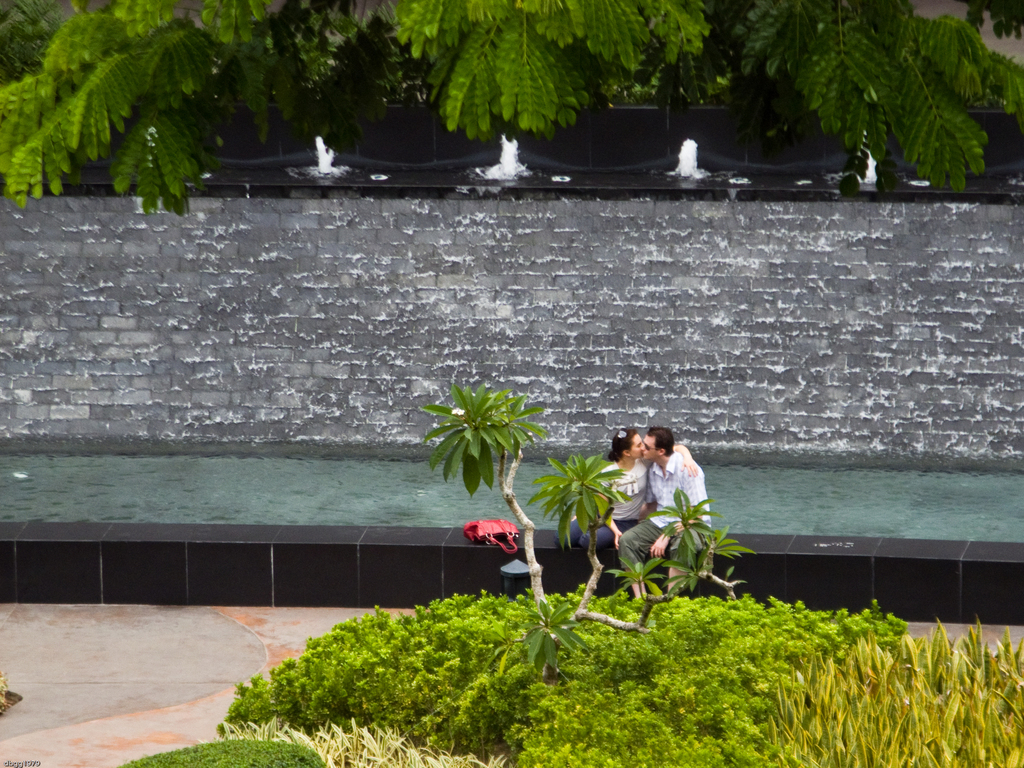Tree: (0, 0, 1023, 220), (421, 393, 759, 669)
